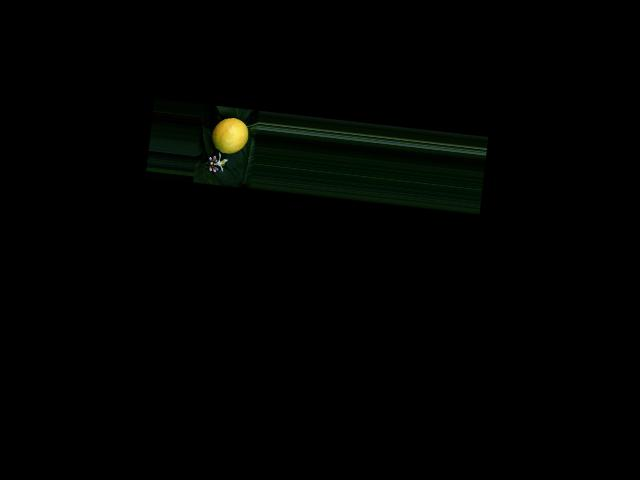lemon: (210, 113, 252, 156)
